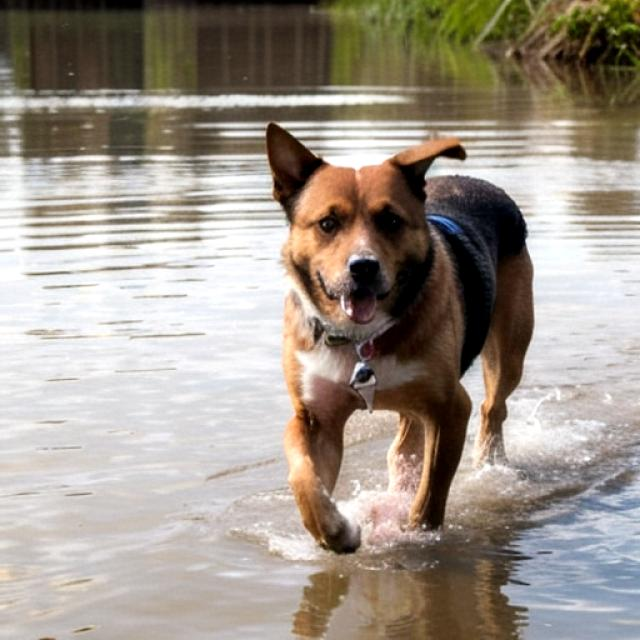dog: (227, 102, 567, 581)
